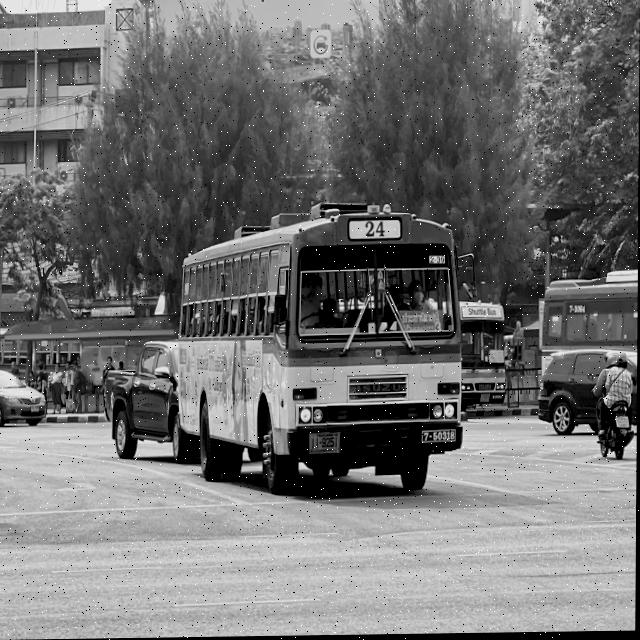BMTA-bus: (177, 207, 465, 498)
Bus Line Number: (347, 218, 405, 244)
Bus Side Number: (422, 432, 456, 443)
Destination Sign: (400, 311, 445, 334)
